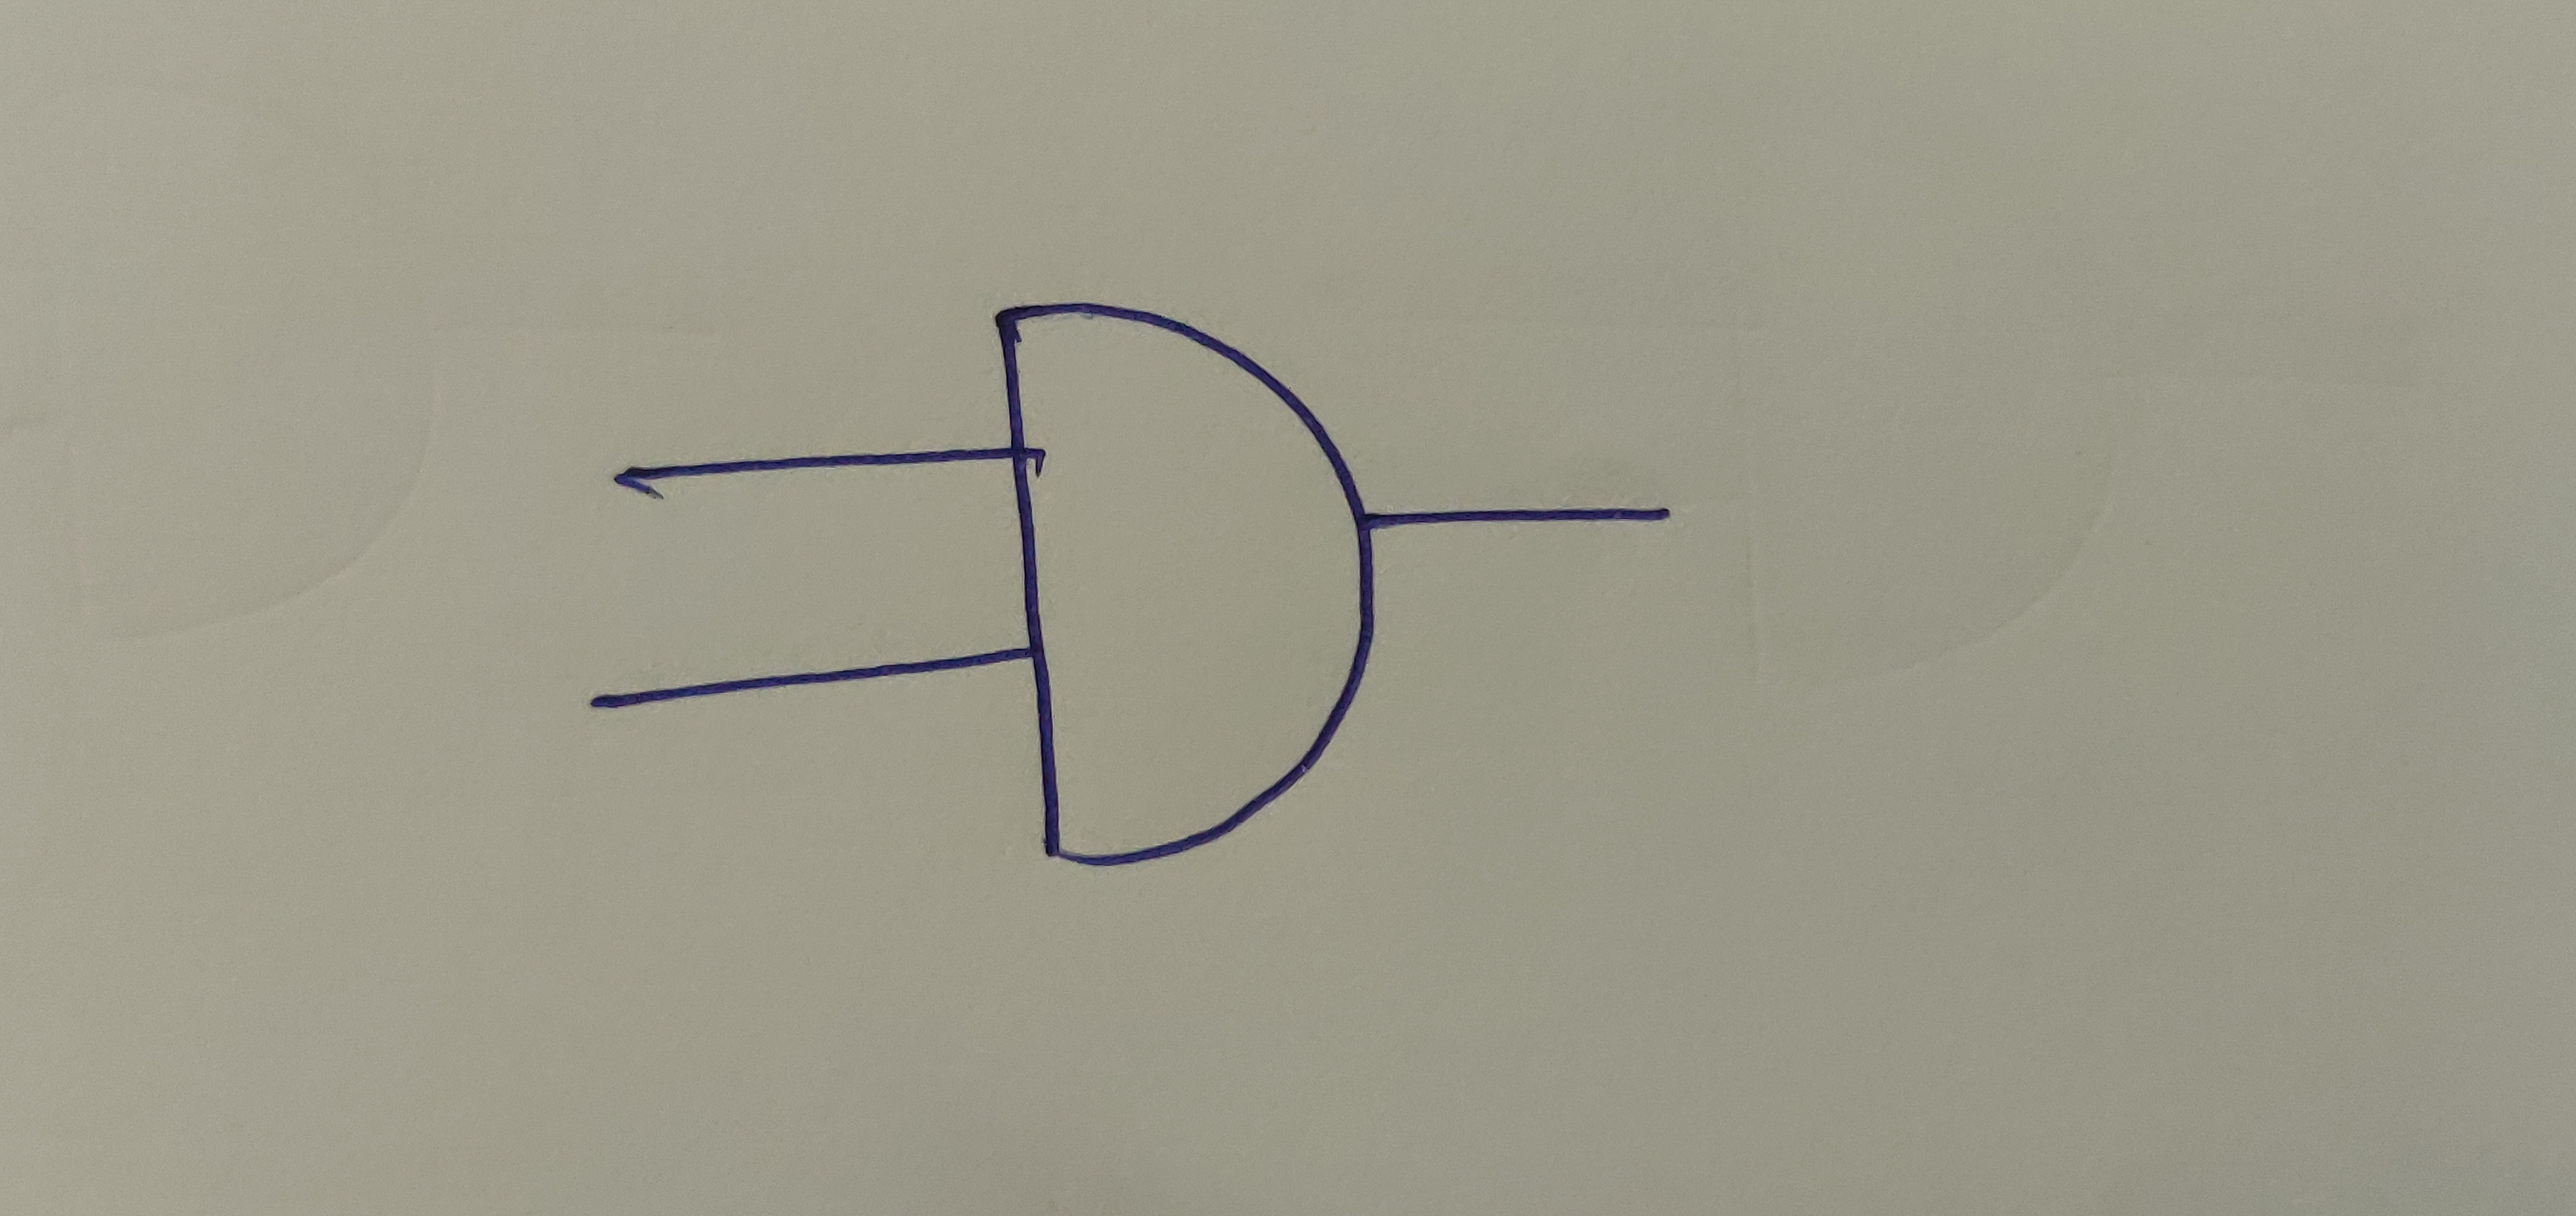and: (991, 299, 1377, 869)
